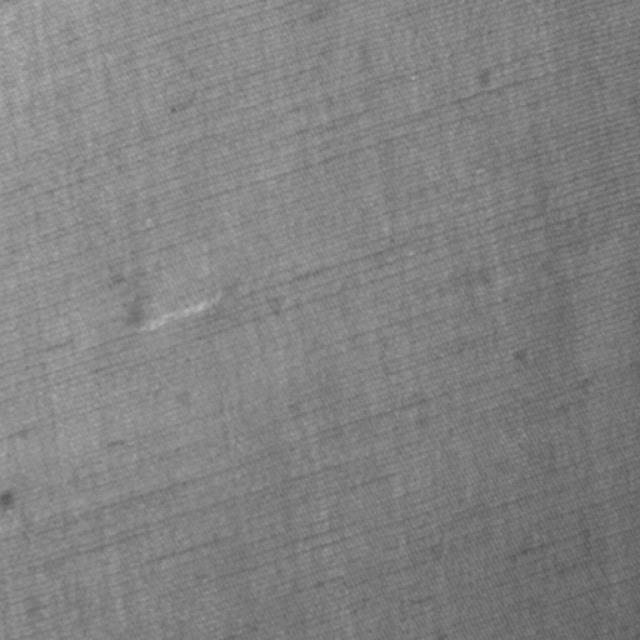thread error: (121, 282, 227, 336)
